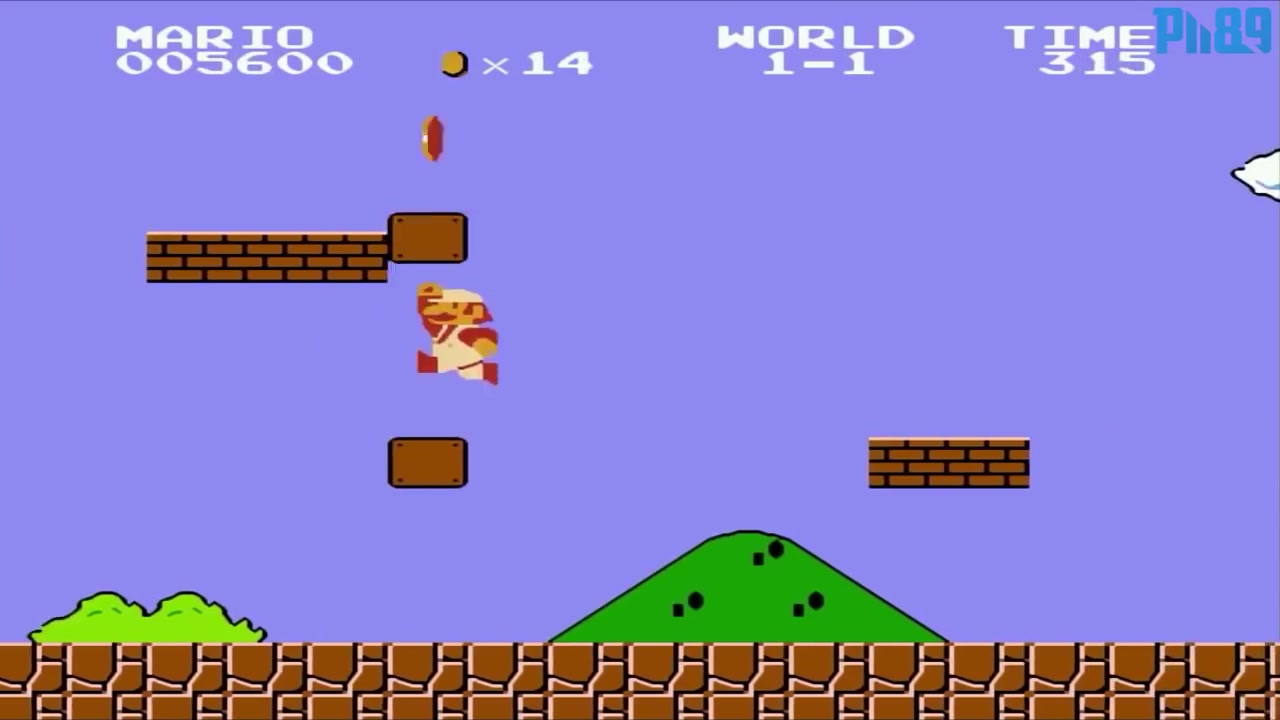mario: (400, 278, 500, 383)
